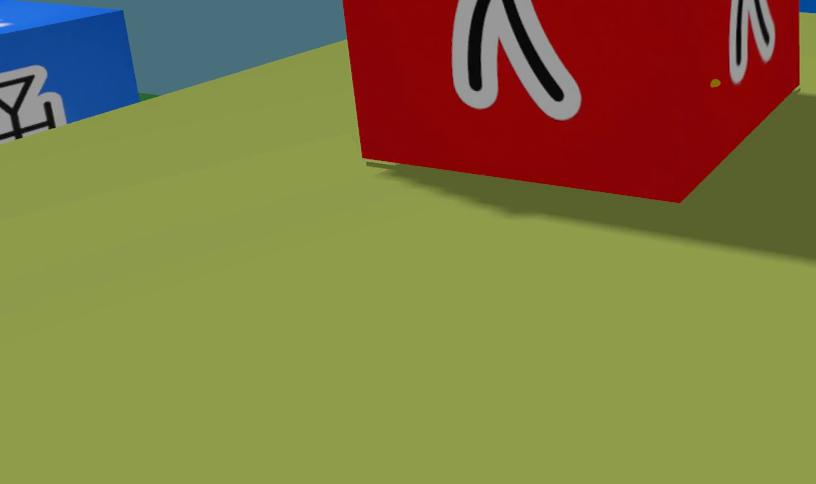KFS_FAKE: (344, 0, 800, 201), (451, 0, 581, 120), (728, 0, 774, 82)
KFS_REAL: (0, 0, 136, 143), (0, 67, 68, 142), (800, 0, 816, 12)
